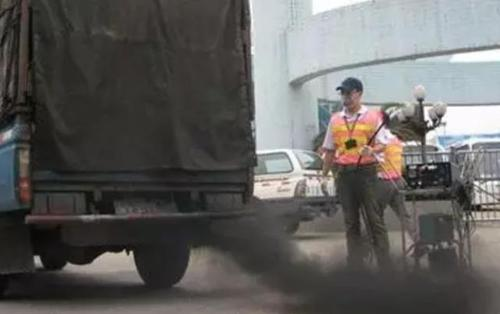smoke: (216, 219, 413, 314)
